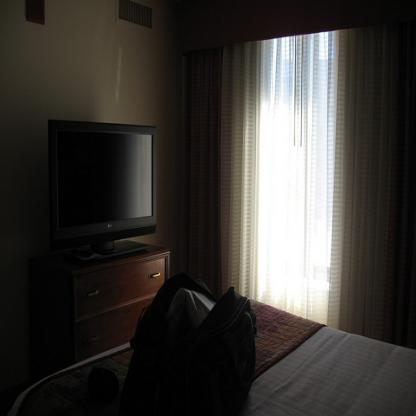backpack: (128, 268, 260, 416)
